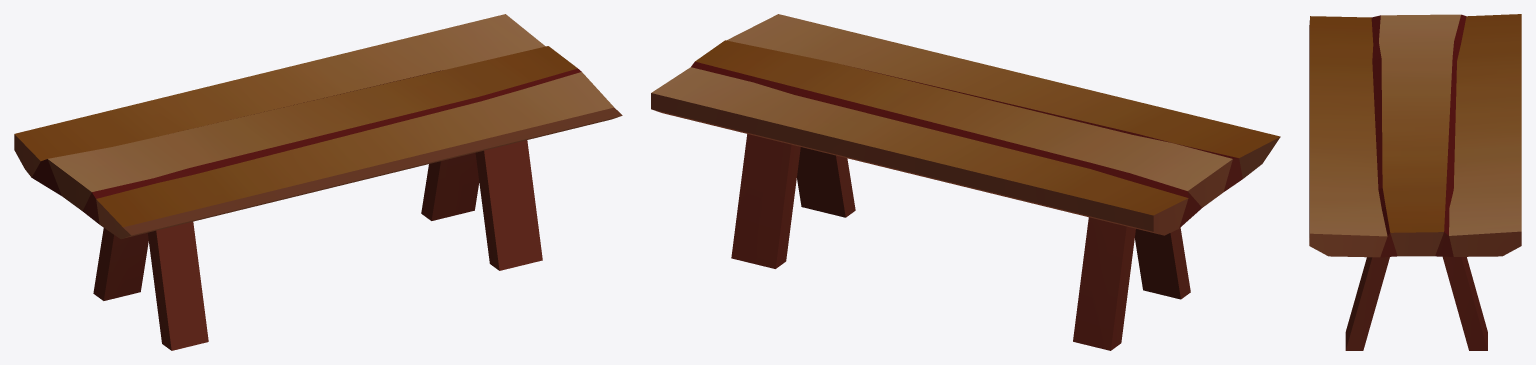
File: SM_Table_01.fbx
3 renders of one model, left to right at view 1: azimuth 30°, elevation 25°; view 2: azimuth 150°, elevation 25°; view 3: azimuth 270°, elevation 25°, orthographic. The views are drawn at different scales.
Parts seen in each view (by area): view 1: SM_Table_01; view 2: SM_Table_01; view 3: SM_Table_01.
Part boxes in pixels (x1,y1,x2,y2): SM_Table_01: (14, 14, 622, 350); SM_Table_01: (651, 14, 1280, 350); SM_Table_01: (1309, 14, 1521, 350).
Size of the model in its own units: 260 by 79.72 by 105.
